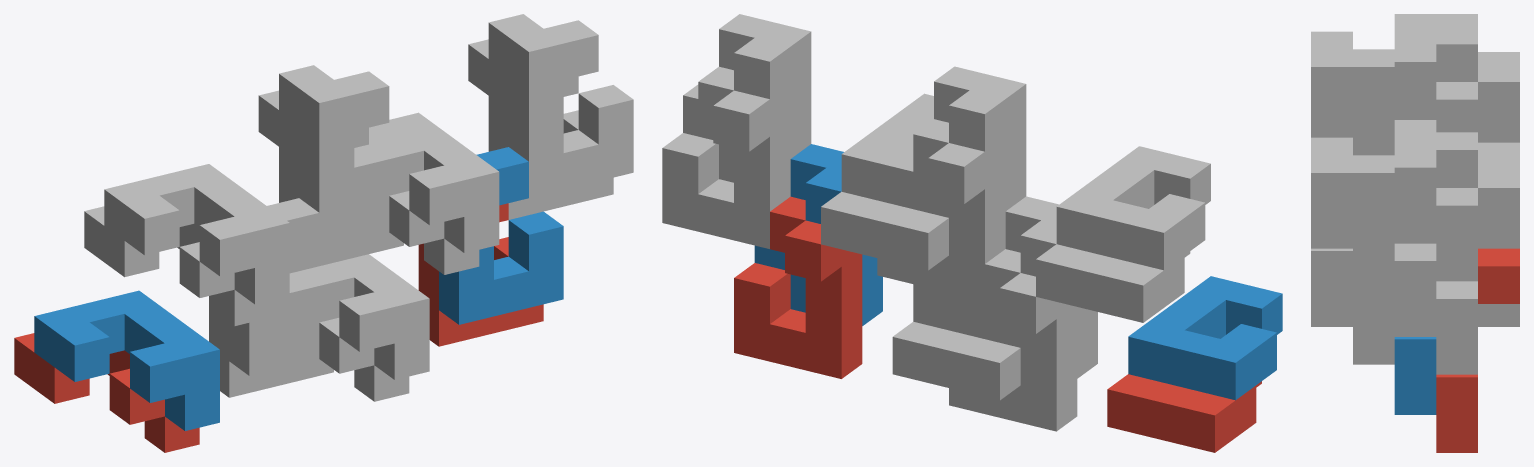
Rendered from tiling.obj.
The picture shows the model from 3 angles, left to right: view 1: azimuth 30°, elevation 25°; view 2: azimuth 150°, elevation 25°; view 3: azimuth 270°, elevation 25°; orthographic projection. The views are drawn at different scales.
Visible parts, largest first — view 1: copy_2_domain_8, copy_1_domain_4, copy_1_domain_2, copy_2_domain_4, copy_1_domain_8, copy_2_domain_6, copy_1_domain_6, copy_2_domain_2, copy_1_domain_1, copy_1_domain_3, copy_2_domain_7, copy_2_domain_3 (+4 smaller); view 2: copy_2_domain_7, copy_2_domain_5, copy_1_domain_4, copy_1_domain_2, copy_2_domain_3, copy_2_domain_1, copy_2_domain_8, copy_1_domain_1, copy_1_domain_3, copy_2_domain_4, copy_1_domain_5, copy_1_domain_7 (+4 smaller); view 3: copy_2_domain_8, copy_2_domain_7, copy_1_domain_4, copy_1_domain_8, copy_2_domain_4, copy_2_domain_5, copy_1_domain_7, copy_2_domain_3, copy_1_domain_5, copy_1_domain_3, copy_1_domain_6, copy_2_domain_6 (+1 smaller).
Boxes of the visible parts, left/top/right/bottom form: copy_2_domain_8: left=488, top=14, right=633, bottom=197; copy_1_domain_4: left=104, top=164, right=289, bottom=304; copy_1_domain_2: left=34, top=290, right=219, bottom=430; copy_2_domain_4: left=279, top=65, right=423, bottom=249; copy_1_domain_8: left=354, top=112, right=499, bottom=253; copy_2_domain_6: left=439, top=147, right=563, bottom=324; copy_1_domain_6: left=284, top=254, right=429, bottom=379; copy_2_domain_2: left=229, top=198, right=354, bottom=375; copy_1_domain_1: left=14, top=333, right=199, bottom=452; copy_1_domain_3: left=84, top=206, right=269, bottom=325; copy_2_domain_7: left=468, top=39, right=613, bottom=219; copy_2_domain_3: left=258, top=90, right=403, bottom=270; copy_2_domain_7: left=662, top=66, right=790, bottom=248; copy_2_domain_5: left=734, top=196, right=862, bottom=378; copy_1_domain_4: left=1056, top=146, right=1210, bottom=270; copy_1_domain_2: left=1128, top=276, right=1282, bottom=400; copy_2_domain_3: left=877, top=119, right=1005, bottom=301; copy_2_domain_1: left=949, top=249, right=1077, bottom=431; copy_2_domain_8: left=683, top=14, right=811, bottom=182; copy_1_domain_1: left=1107, top=374, right=1261, bottom=452; copy_1_domain_3: left=1036, top=244, right=1190, bottom=322; copy_2_domain_4: left=898, top=66, right=1026, bottom=210; copy_1_domain_5: left=892, top=321, right=1020, bottom=400; copy_1_domain_7: left=821, top=191, right=948, bottom=270; copy_2_domain_8: left=1394, top=132, right=1477, bottom=336; copy_2_domain_7: left=1436, top=170, right=1519, bottom=374; copy_1_domain_4: left=1311, top=14, right=1477, bottom=137; copy_1_domain_8: left=1311, top=120, right=1436, bottom=248; copy_2_domain_4: left=1394, top=26, right=1477, bottom=119; copy_2_domain_5: left=1436, top=248, right=1519, bottom=452; copy_1_domain_7: left=1353, top=157, right=1519, bottom=286; copy_2_domain_3: left=1436, top=64, right=1519, bottom=132; copy_1_domain_5: left=1353, top=289, right=1519, bottom=364; copy_1_domain_3: left=1353, top=52, right=1519, bottom=155; copy_1_domain_6: left=1311, top=248, right=1394, bottom=326; copy_2_domain_6: left=1394, top=337, right=1436, bottom=414.
Size of the model in its own units: 16 by 8 by 5.
